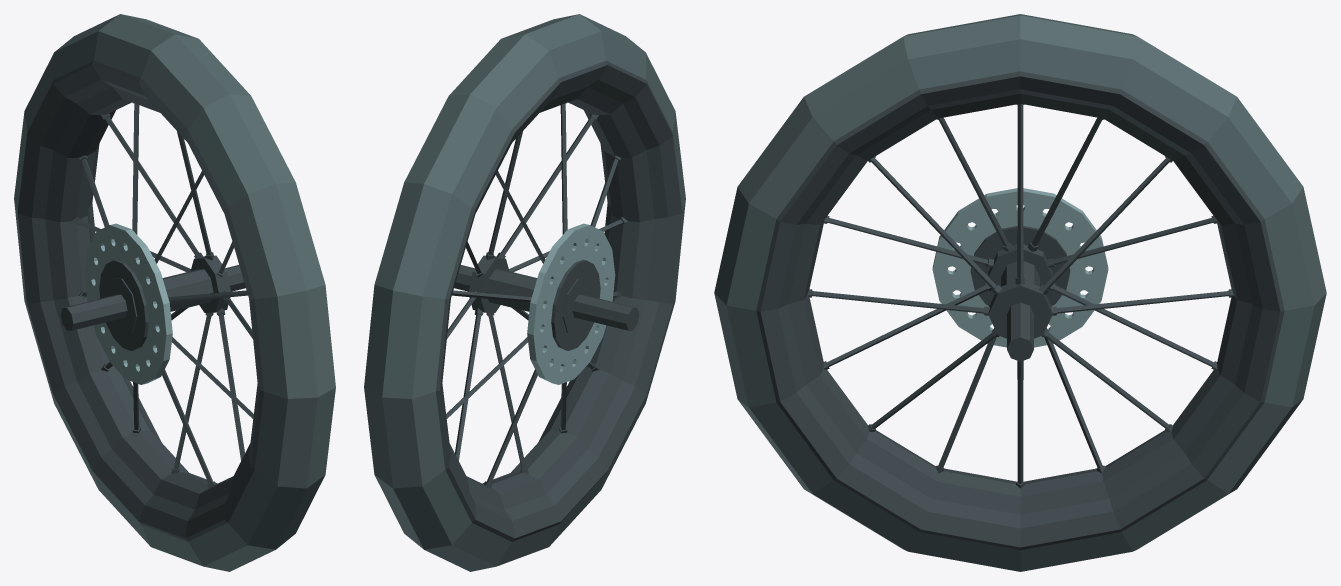
The model's file is frontWheel.fbx.
The picture shows the model from 3 angles, left to right: view 1: azimuth 30°, elevation 25°; view 2: azimuth 150°, elevation 25°; view 3: azimuth 270°, elevation 25°; orthographic projection. The views are drawn at different scales.
Parts seen in each view (by area): view 1: 0前輪合併; view 2: 0前輪合併; view 3: 0前輪合併.
Part boxes in pixels (box(x1,y1,x2,y2)): 0前輪合併: box(14, 14, 335, 571); 0前輪合併: box(364, 14, 685, 571); 0前輪合併: box(714, 14, 1326, 571).
Size of the model in its own units: 28.83 by 66 by 66.
